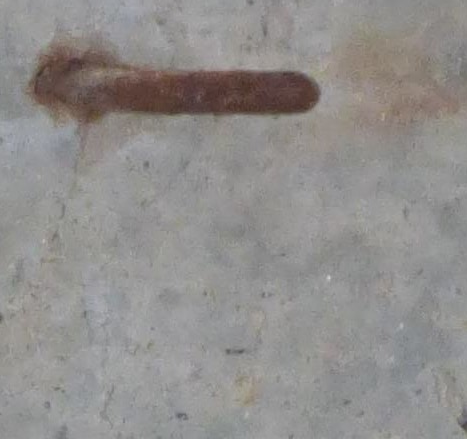Exposed reinforcement: (53, 69, 321, 115)
